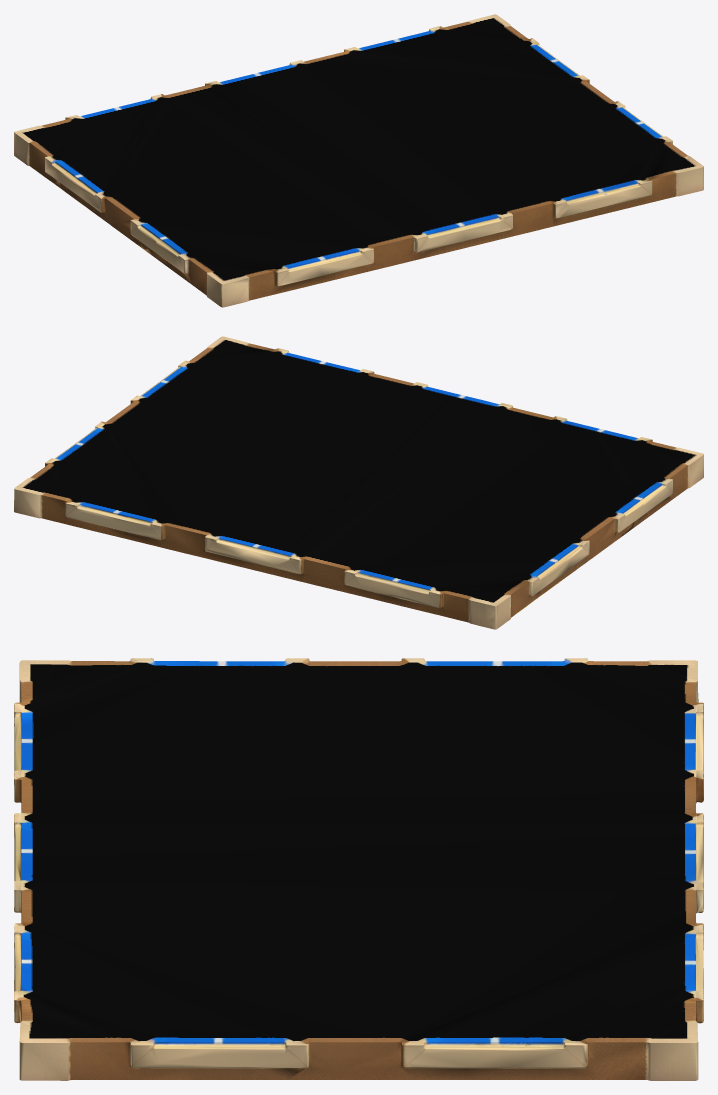
The model's file is 7-roof.fbx.
3 views of the same model, one above another, from view 1: azimuth 30°, elevation 25°; view 2: azimuth 150°, elevation 25°; view 3: azimuth 270°, elevation 25° (orthographic). The views are drawn at different scales.
Visible parts, largest first — view 1: roof; view 2: roof; view 3: roof.
Boxes of the visible parts, left/top/right/bottom form: roof: left=14, top=14, right=703, bottom=307; roof: left=14, top=336, right=703, bottom=629; roof: left=14, top=658, right=703, bottom=1080.
Bounding box in the file's own units: 8626 × 392 × 6492.
1 material, 1 textured.
